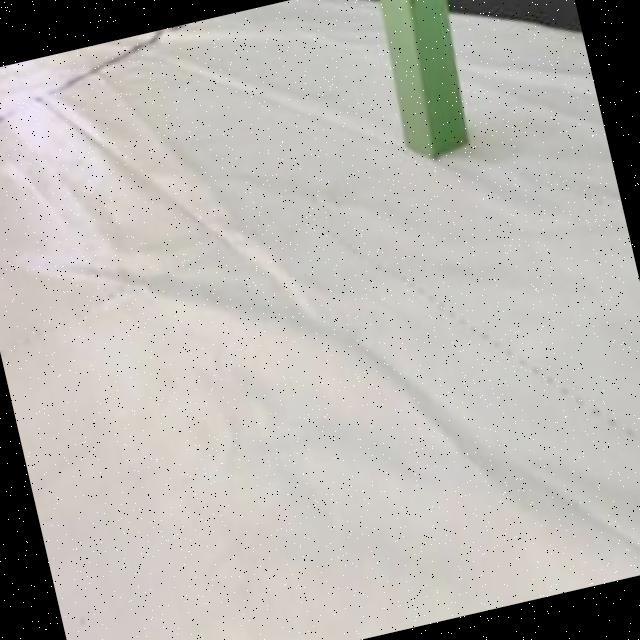greenbox: (366, 0, 484, 170)
